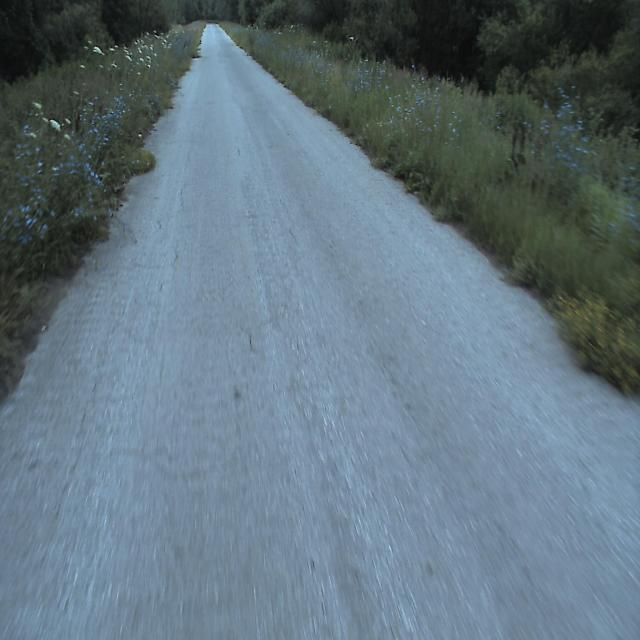road: (0, 23, 640, 639)
